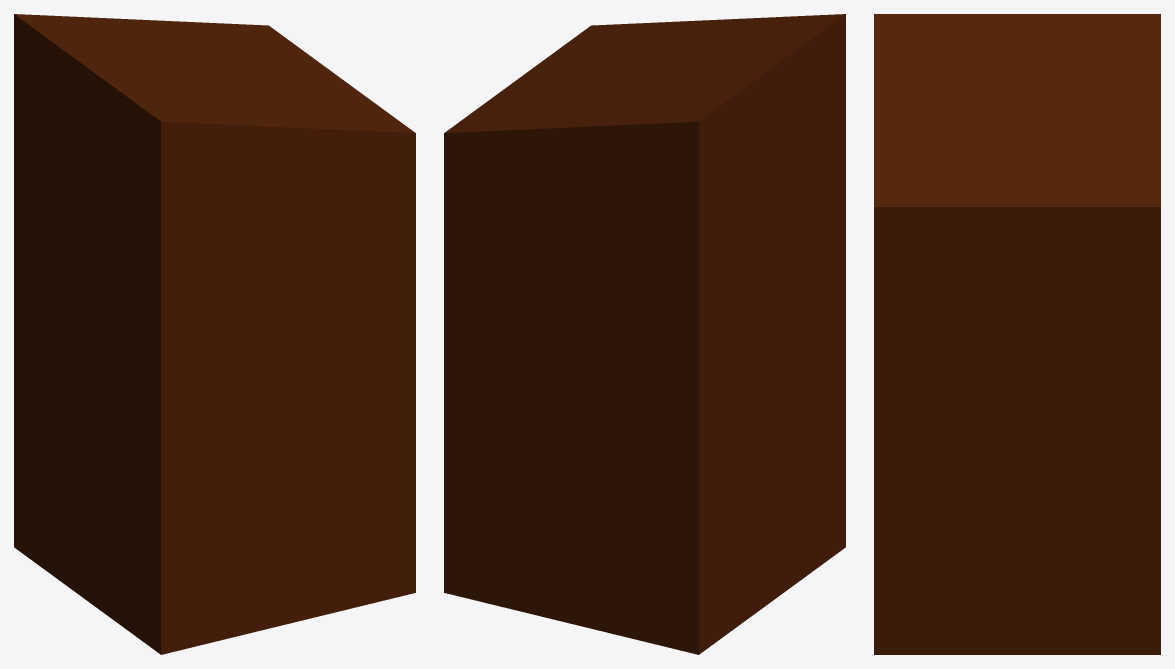
File: lectern.glb
3 renders of one model, left to right at view 1: azimuth 30°, elevation 25°; view 2: azimuth 150°, elevation 25°; view 3: azimuth 270°, elevation 25°, orthographic. The views are drawn at different scales.
Parts seen in each view (by area): view 1: Lectern; view 2: Lectern; view 3: Lectern.
Part boxes in pixels (left/top/right/bottom): Lectern: left=14, top=14, right=415, bottom=654; Lectern: left=444, top=14, right=845, bottom=654; Lectern: left=874, top=14, right=1160, bottom=654.
Bounding box in the file's own units: 1 × 2 × 1.
1 material, 1 textured.
